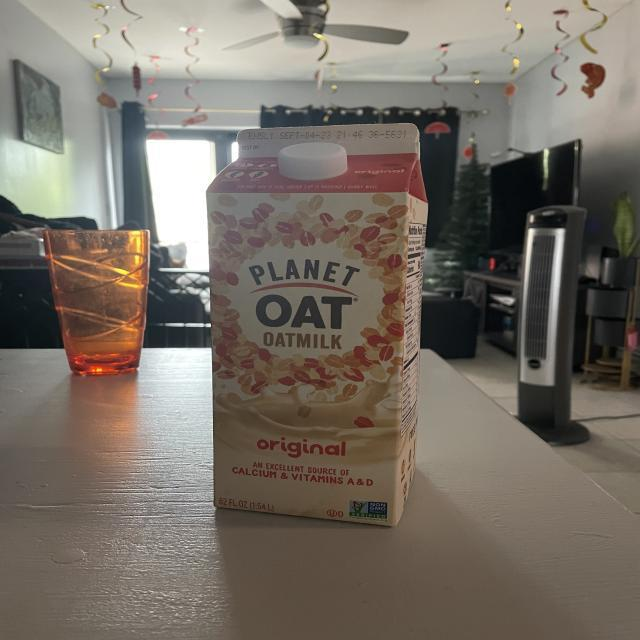Planet Oat Original: (200, 117, 434, 533)
